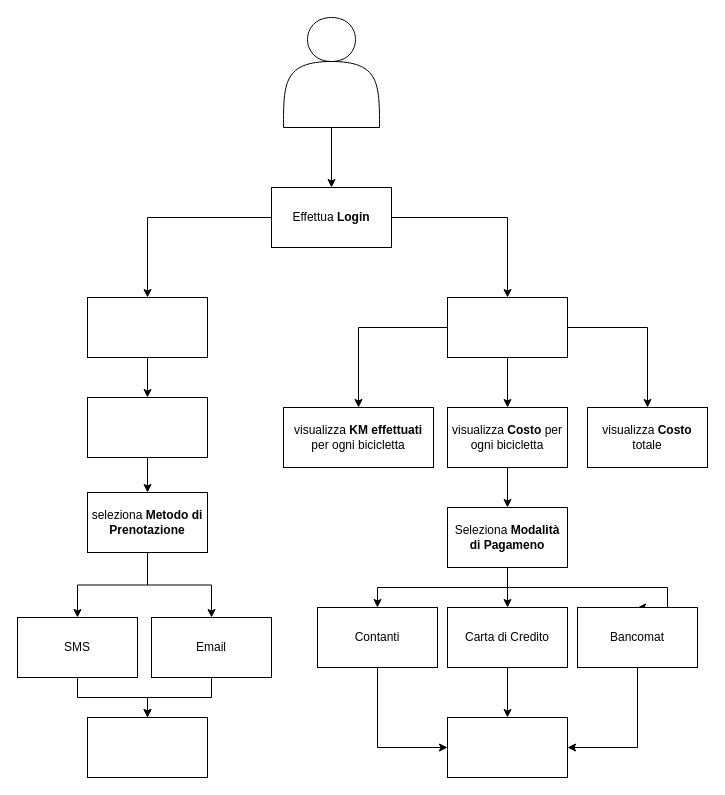
This 725x795 diagram has some shape labels left out. The centre of each missing label's shape, as x and y in pixels:
CLIENTE: the point at 331,72
Effettua Pagamento: the point at 507,747
Effettua Prenotazione: the point at 147,747
seleziona Equipaggiamento: the point at 147,427
VIsualizza Biciclette disponibili: the point at 147,327
visualizza Biciclette in suo possesso: the point at 507,327
